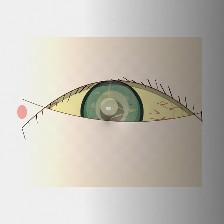corneal_ulcer: (84, 85, 141, 131)
